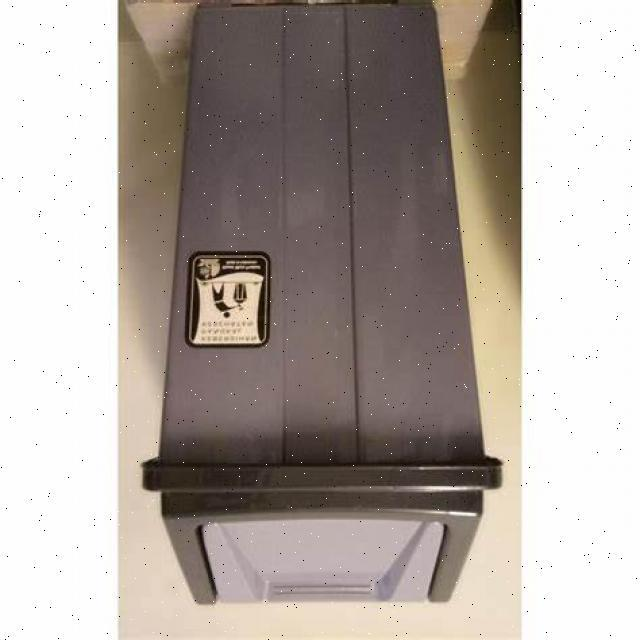garbage container: (119, 1, 525, 640)
